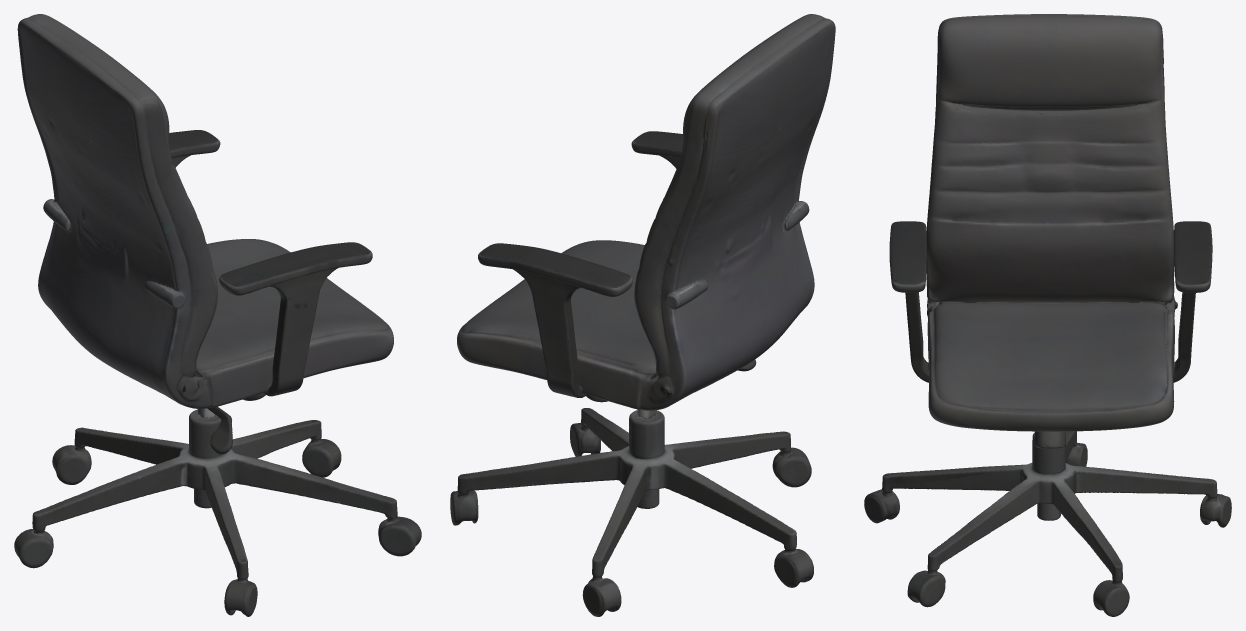
Rendered from modern_office_chair_padded_02.glb.
3 renders of one model, left to right at view 1: azimuth 30°, elevation 25°; view 2: azimuth 150°, elevation 25°; view 3: azimuth 270°, elevation 25°, orthographic. The views are drawn at different scales.
Visible parts, largest first — view 1: tripo_node_de14bc41-0fe7-4375-8d31-d21bbb67f871; view 2: tripo_node_de14bc41-0fe7-4375-8d31-d21bbb67f871; view 3: tripo_node_de14bc41-0fe7-4375-8d31-d21bbb67f871.
Part boxes in pixels (bbox=[...]): tripo_node_de14bc41-0fe7-4375-8d31-d21bbb67f871: bbox=[14, 14, 421, 616]; tripo_node_de14bc41-0fe7-4375-8d31-d21bbb67f871: bbox=[450, 14, 835, 616]; tripo_node_de14bc41-0fe7-4375-8d31-d21bbb67f871: bbox=[864, 14, 1231, 616].
Size of the model in its own units: 0.6991 by 1 by 0.7009.
1 material, 1 textured.
